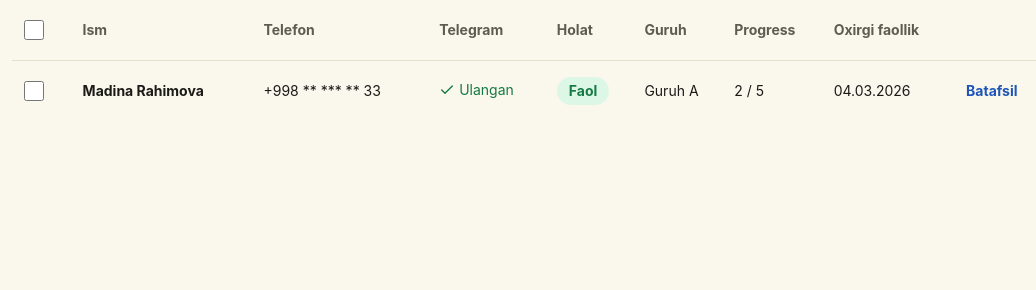
Test: StudentTable › shows the bulk error from the server
Click the checkbox named "Madina Rahimova tanlash". click: (34, 91)
box: [24,81,44,101]
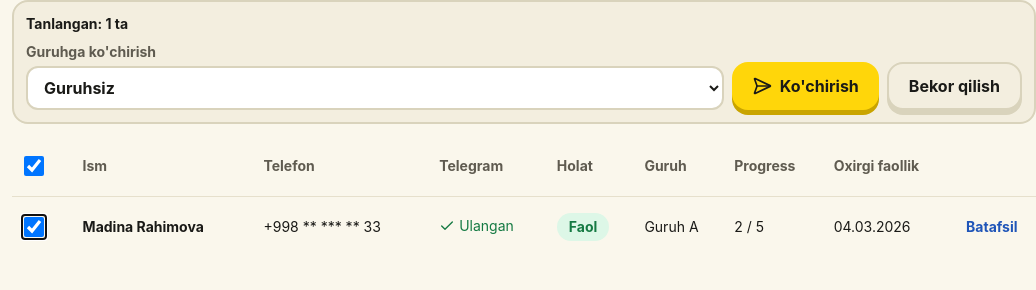
Click the button "Ko'chirish". click: (805, 86)
box: [732,62,879,110]
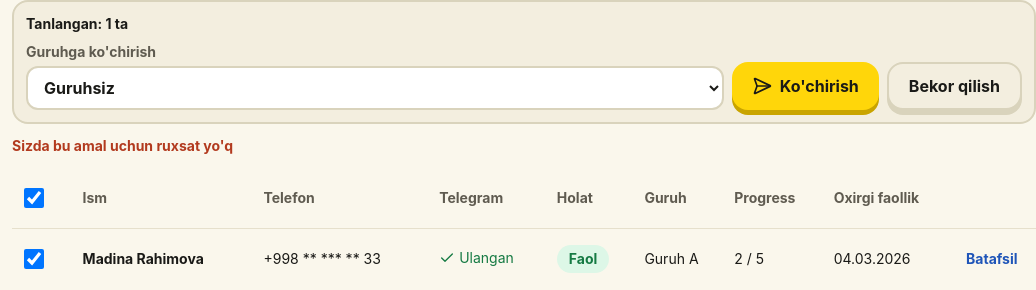
Expected: the text "Tanlangan: 1 ta" is shown, [26,15,128,32]
Expected: the message "Sizda bu amal uchun ruxsat yo'q" is shown, [12,137,233,154]
